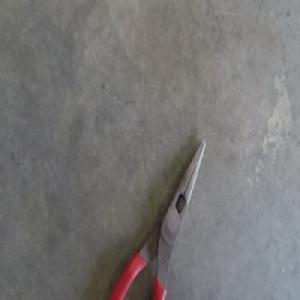Pliers: (111, 134, 206, 299)
